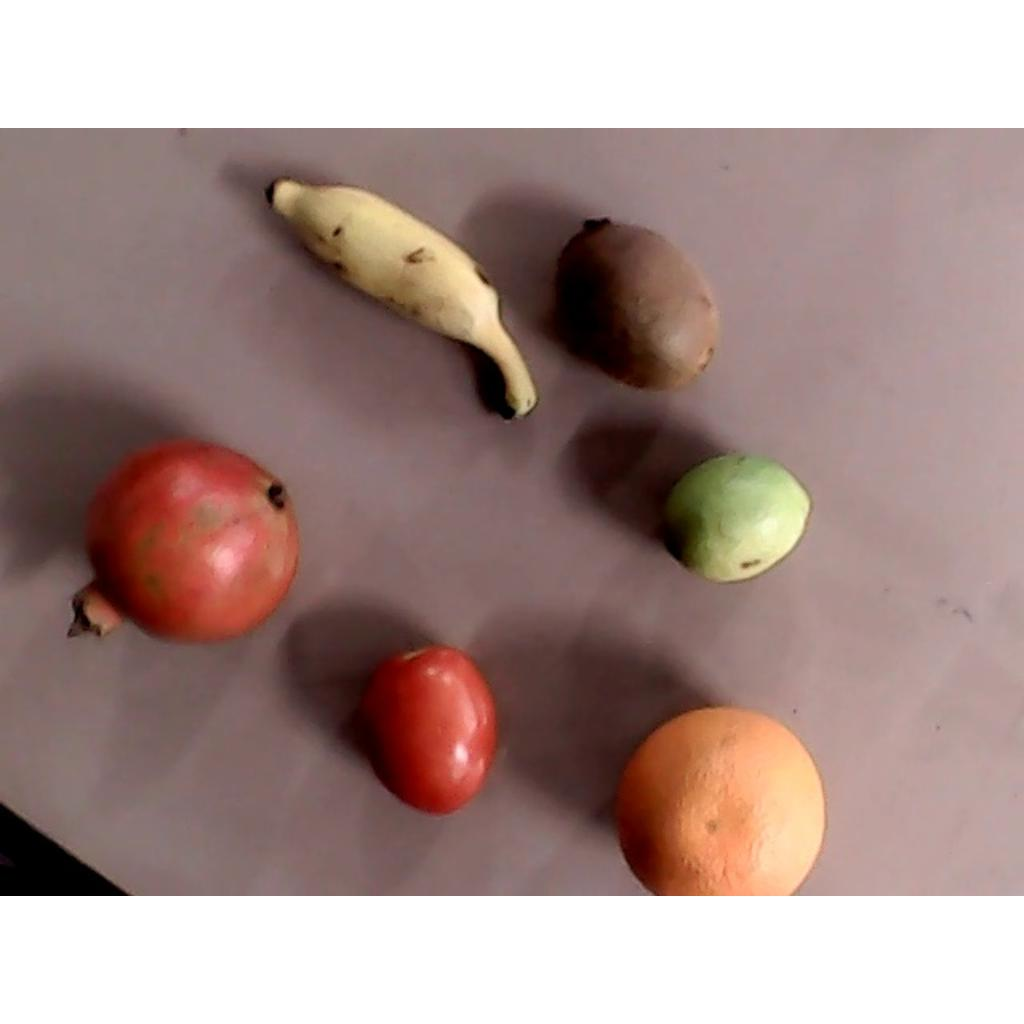kiwi: (552, 217, 718, 392)
lemon: (664, 452, 812, 583)
orange: (614, 707, 826, 894)
pomegranate: (66, 438, 299, 640)
tomato: (357, 644, 496, 818)
